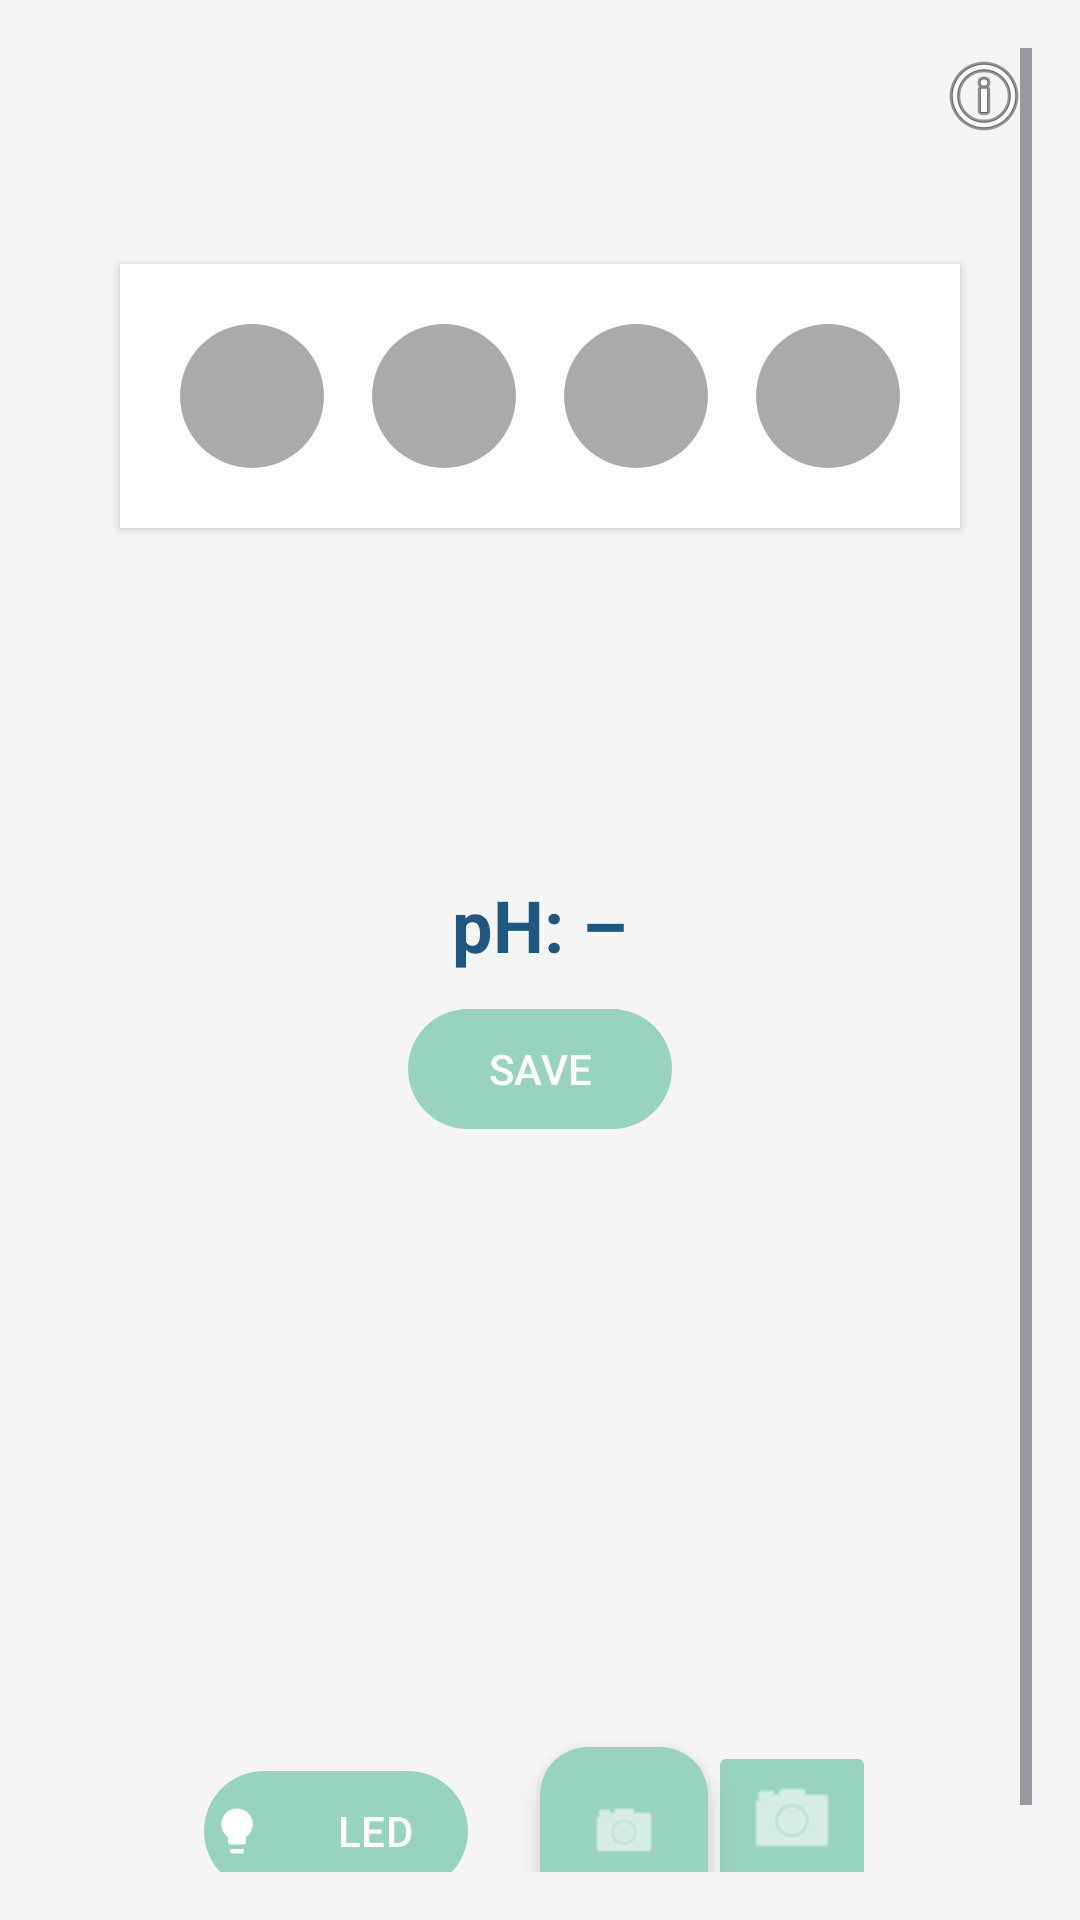

Screen size 1080 x 1920. Icon name, then its box in pixels as (x1, y1, x2, y2):
Take Picture: (540, 1747, 708, 1872)
Wi-Fi Info: (949, 61, 1019, 131)
